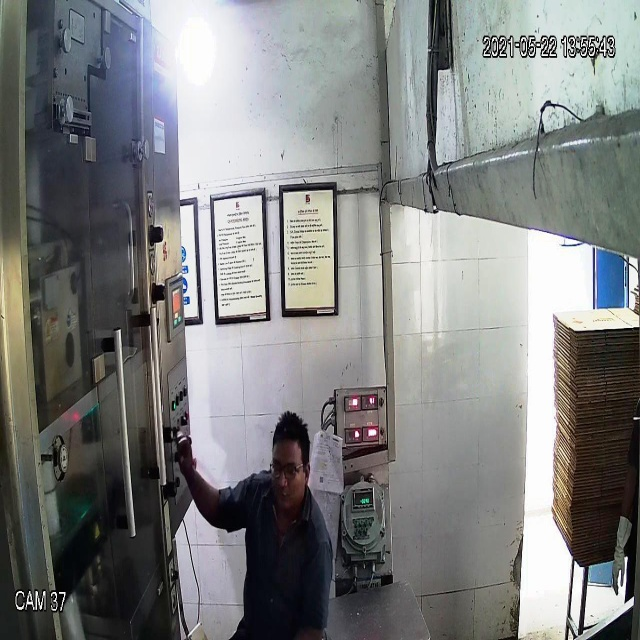Gafas: (266, 452, 311, 484)
